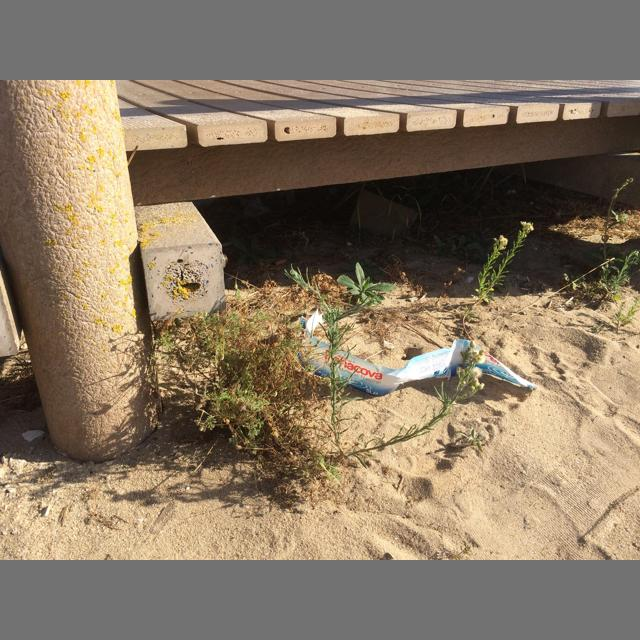litter: (299, 307, 539, 396), (275, 259, 287, 265)
